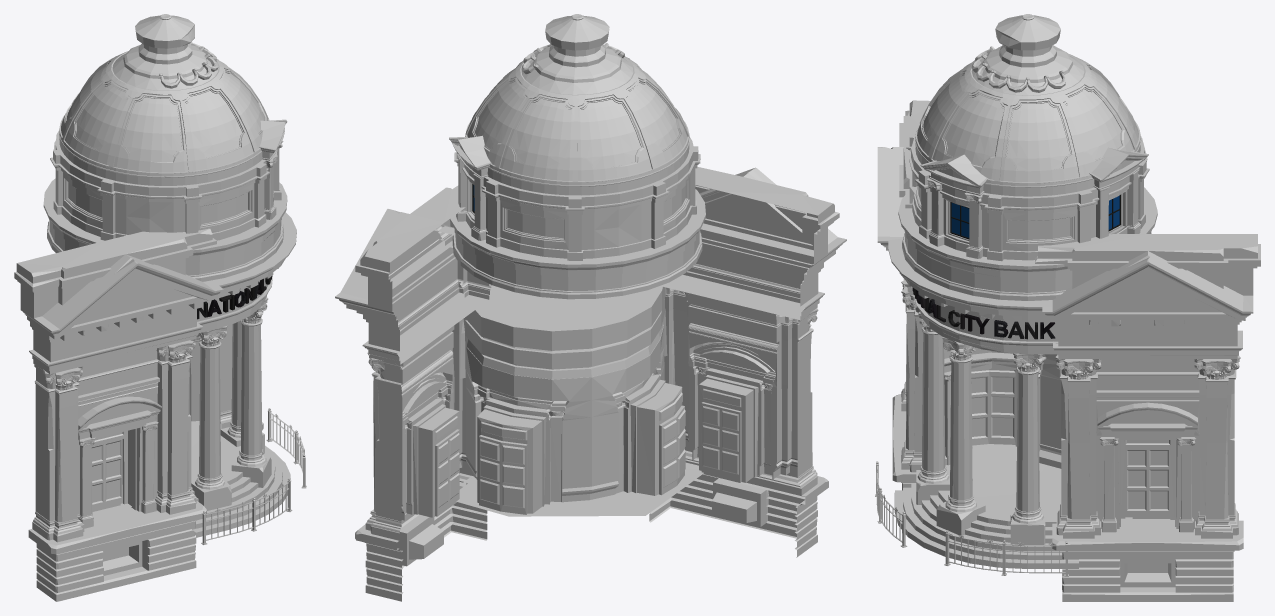
Rendered from Bank.fbx.
3 renders of one model, left to right at view 1: azimuth 30°, elevation 25°; view 2: azimuth 150°, elevation 25°; view 3: azimuth 270°, elevation 25°, orthographic. The views are drawn at different scales.
Visible parts, largest first — view 1: SM_Bank_Dome_01.mo, SM_Bank_Window_01.mo, SM_Bank_Fence_01.mo, SM_Bank_Window_01.mo.001; view 2: SM_Bank_Dome_01.mo, SM_Bank_Window_01.mo, SM_Bank_Window_01.mo.001; view 3: SM_Bank_Dome_01.mo, SM_Bank_Window_01.mo.001, SM_Bank_Window_01.mo, SM_Bank_Fence_01.mo.
Boxes of the visible parts, x1,y1,x2,y2 form: SM_Bank_Dome_01.mo: (43,14,296,537); SM_Bank_Window_01.mo: (14,228,223,601); SM_Bank_Fence_01.mo: (201,408,306,544); SM_Bank_Window_01.mo.001: (219,324,263,430); SM_Bank_Dome_01.mo: (437,14,705,516); SM_Bank_Window_01.mo: (649,166,846,557); SM_Bank_Window_01.mo.001: (335,185,491,601); SM_Bank_Dome_01.mo: (888,14,1157,568); SM_Bank_Window_01.mo.001: (1035,234,1260,601); SM_Bank_Window_01.mo: (877,100,930,532); SM_Bank_Fence_01.mo: (875,461,1068,576).
Size of the model in its own units: 1213 by 1848 by 1213.
